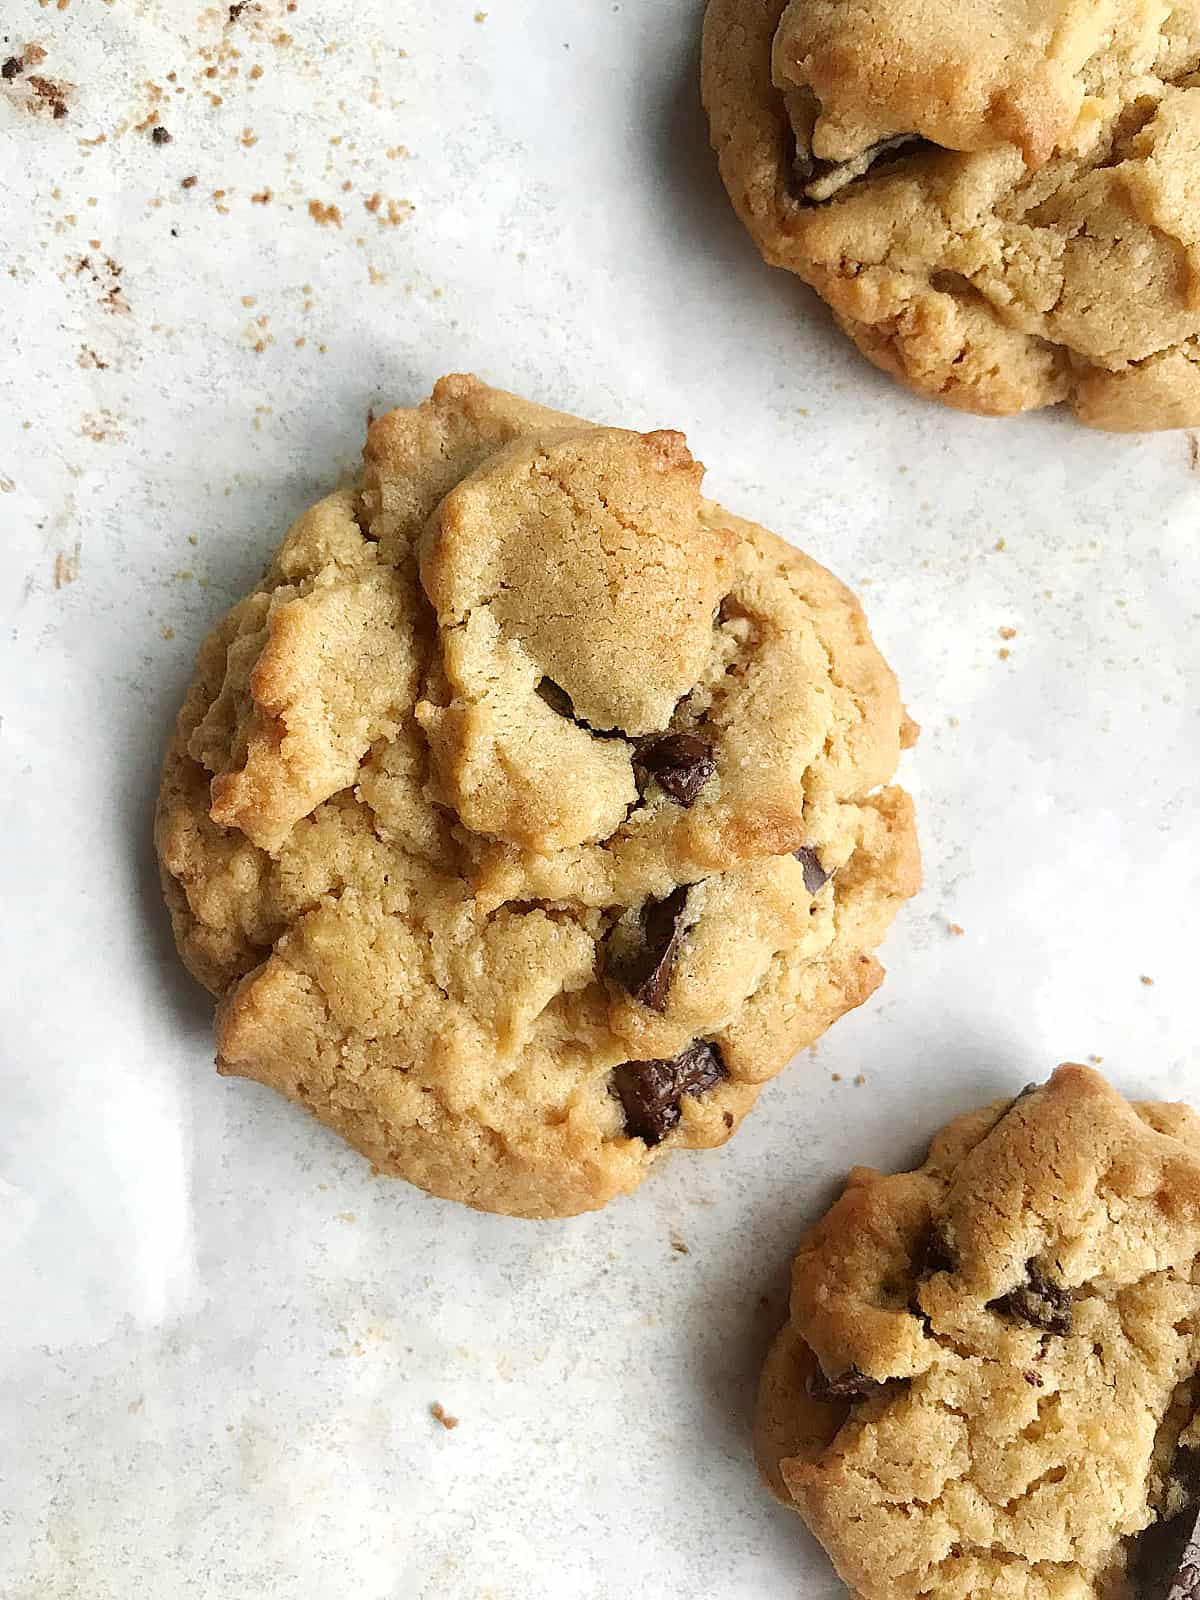cookie: (38, 359, 969, 1240)
